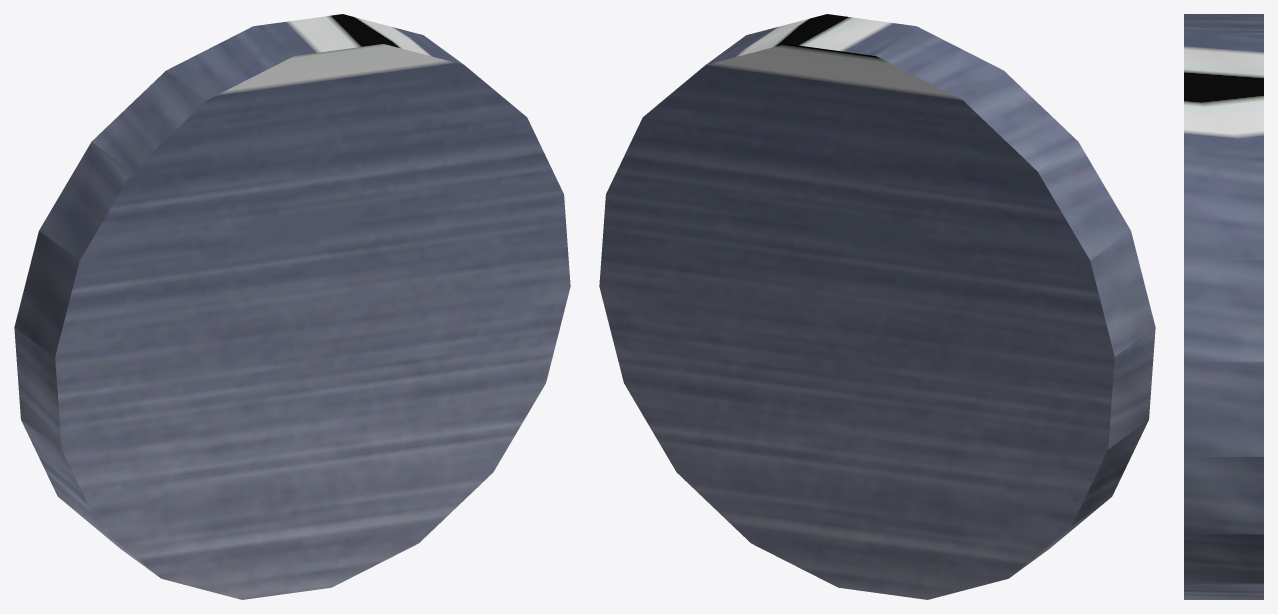
File: XMENSAVE.ICN.obj
3 renders of one model, left to right at view 1: azimuth 30°, elevation 25°; view 2: azimuth 150°, elevation 25°; view 3: azimuth 270°, elevation 25°, orthographic. The views are drawn at different scales.
Size of the model in its own units: 4.99 by 5 by 0.6836.
